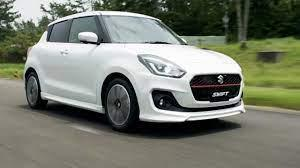Hatchback: (22, 11, 245, 132)
